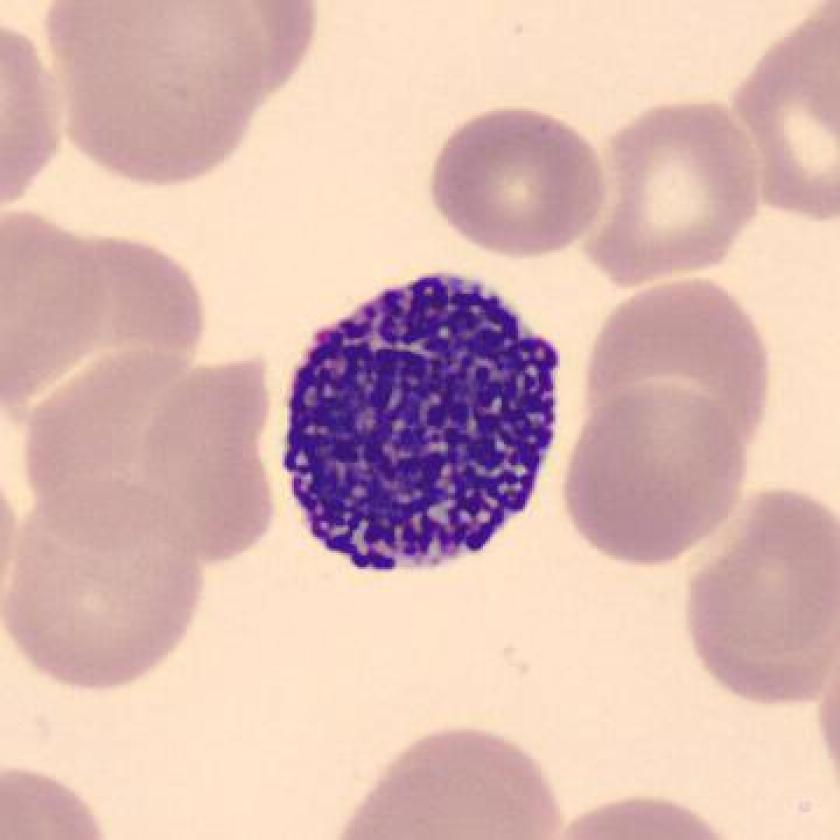basophil: (274, 258, 561, 596)
